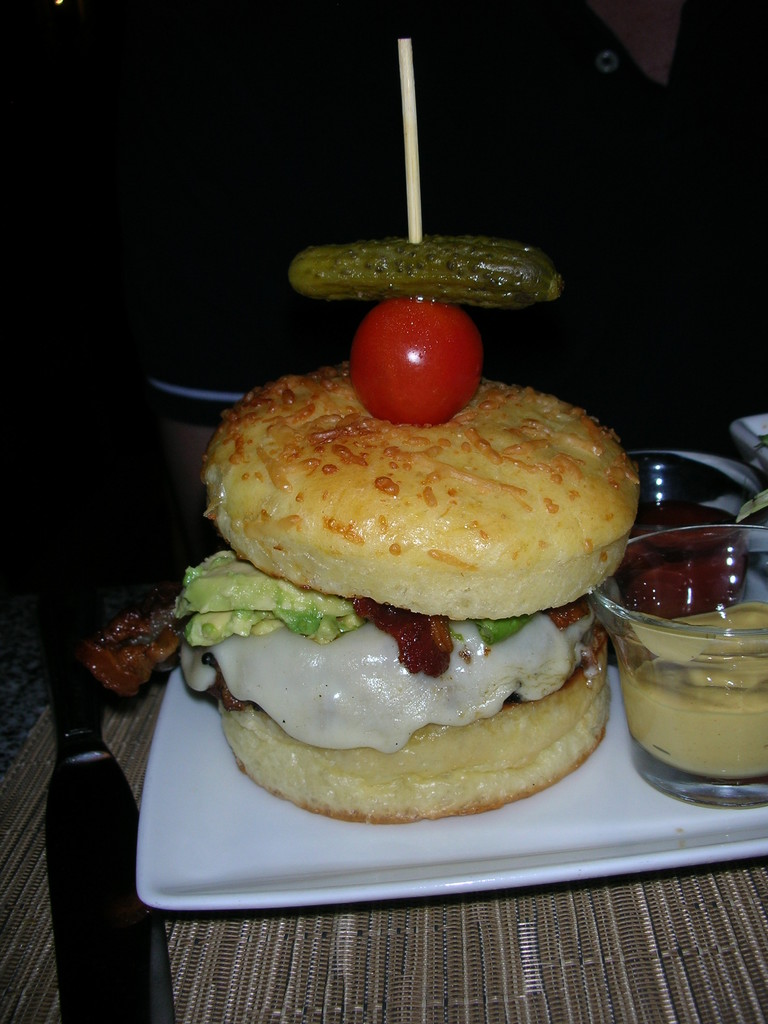Hamburger: (83, 235, 647, 819)
